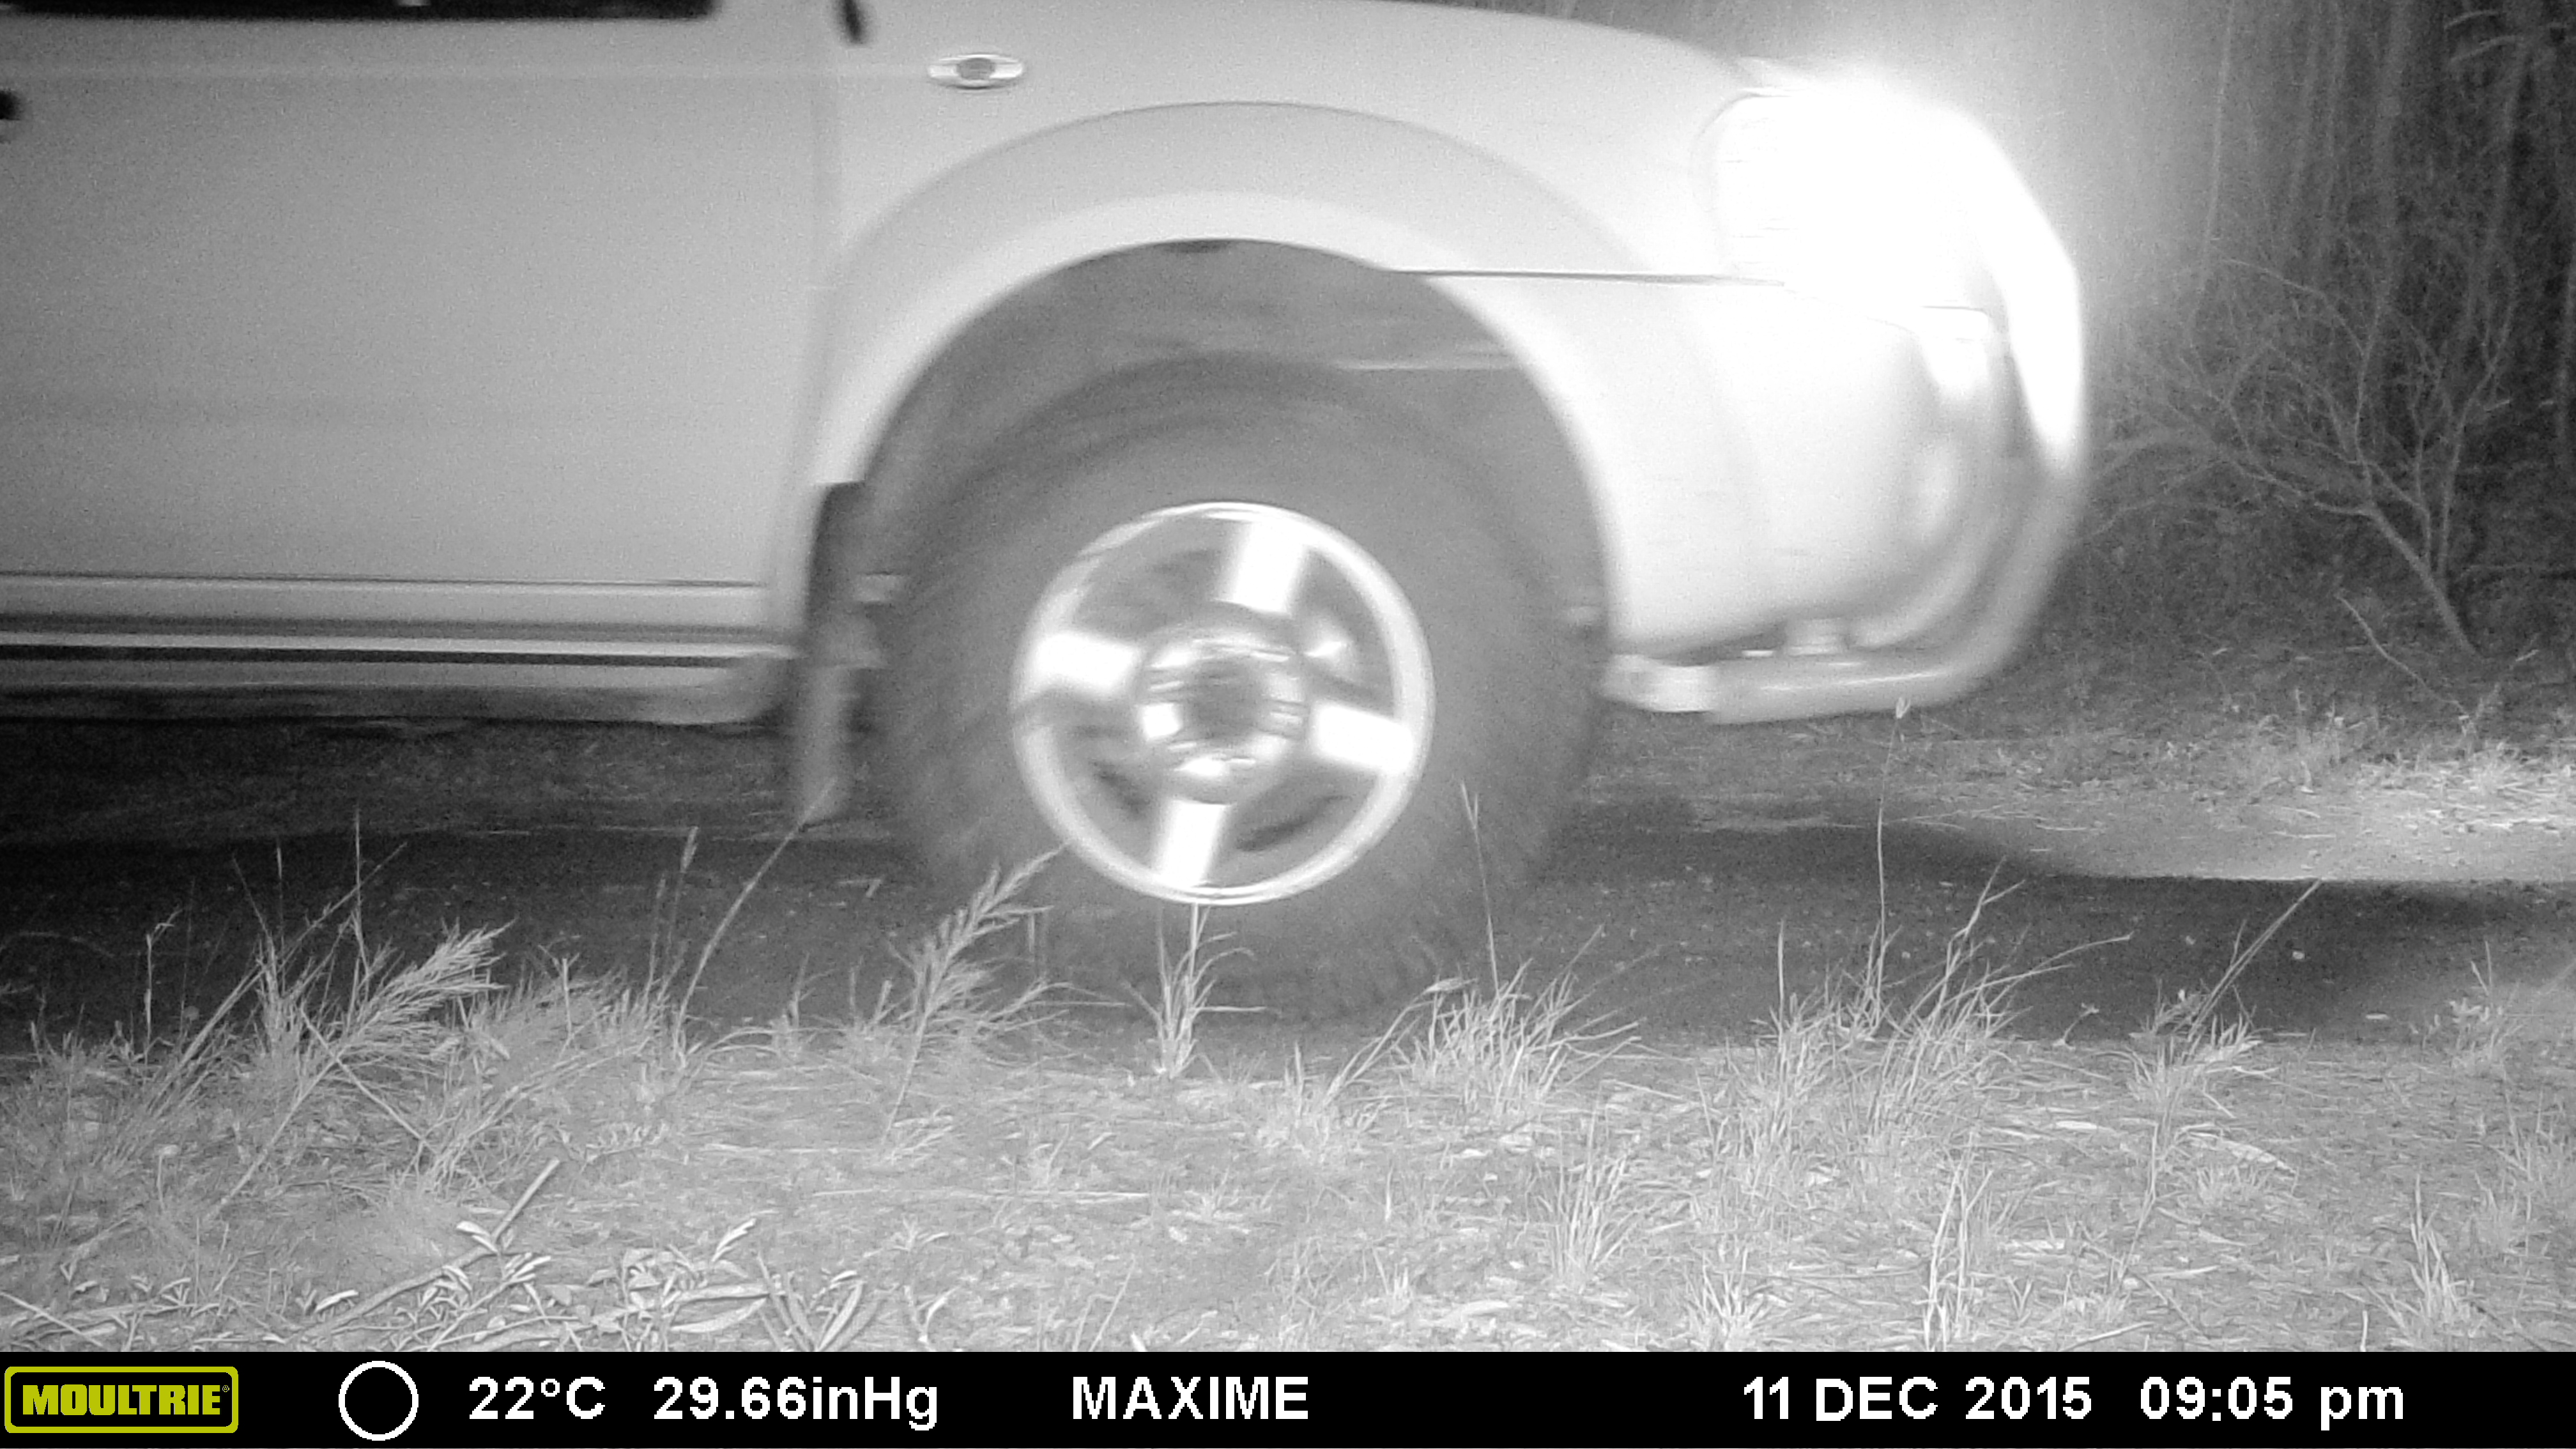Car: (4, 2, 2102, 1047)
